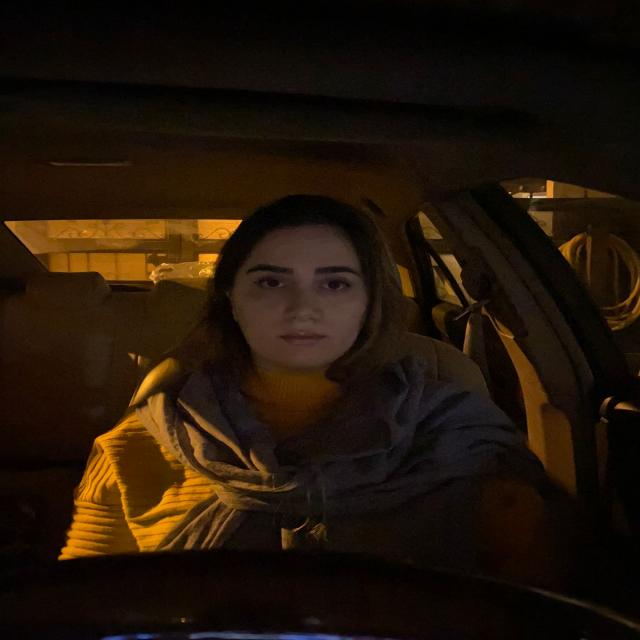person: (210, 197, 398, 370)
